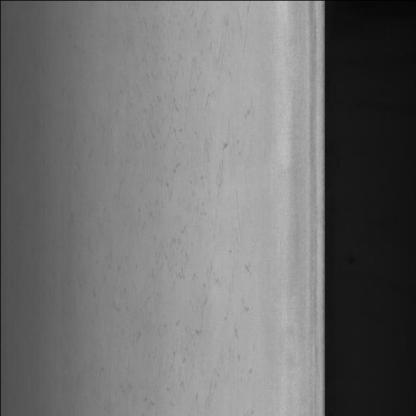silk_spot: (141, 44, 248, 386)
